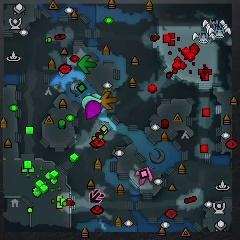p2: (82, 96, 102, 108)
p3: (86, 100, 101, 118)
x1: (136, 167, 153, 185)
x1Clone: (89, 191, 101, 203), (94, 188, 105, 200)
x4: (78, 56, 97, 74)
x5: (101, 92, 118, 110)
